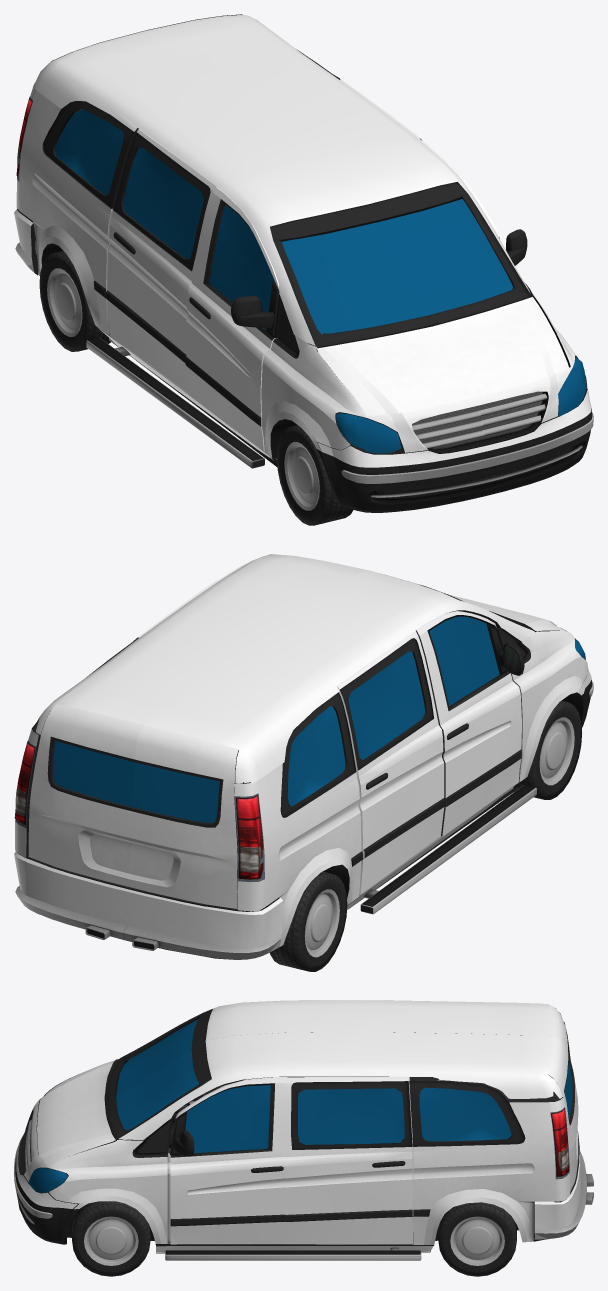
Rendered from Car4.fbx.
3 views of the same model, one above another, from view 1: azimuth 30°, elevation 25°; view 2: azimuth 150°, elevation 25°; view 3: azimuth 270°, elevation 25° (orthographic). The views are drawn at different scales.
Visible parts, largest first — view 1: DC3_Van_1_Roof, DC3_Van_1_Body, DC3_Van_1_Glass_F, DC3_Van_1_Hood, DC3_Van_1_Bumper_F_1, DC3_Van_1_Door_BL_1, Door, DC3_Van_1_Glass_BL_1, DC3_Van_1_Sidepanel_R_3, Side_Glass_, DC3_Van_1_Glass_RL_1, Tire_1 (+7 smaller); view 2: DC3_Van_1_Roof, DC3_Van_1_Trunk, DC3_Van_1_Body, DC3_Van_1_Bumper_B_1, DC3_Van_1_Door_BL_1, Door, DC3_Van_1_Glass_B, DC3_Van_1_Glass_BL_1, Side_Glass_, DC3_Van_1_Sidepanel_R_3, DC3_Van_1_Glass_RL_1, Tire (+6 smaller); view 3: DC3_Van_1_Roof, DC3_Van_1_Body, DC3_Van_1_Door_BL, Door__1_, DC3_Van_1_Glass_BL, DC3_Van_1_Hood, DC3_Van_1_Glass_F, Side_Glass__1, DC3_Van_1_Sidepanel_L_3, DC3_Van_1_Glass_RL, Tire_3, Tire_2 (+8 smaller).
Part boxes in pixels (bbox=[...]): DC3_Van_1_Roof: bbox=[33, 14, 530, 347]; DC3_Van_1_Body: bbox=[16, 50, 587, 512]; DC3_Van_1_Glass_F: bbox=[281, 199, 512, 334]; DC3_Van_1_Hood: bbox=[316, 297, 568, 415]; DC3_Van_1_Bumper_F_1: bbox=[318, 390, 593, 512]; DC3_Van_1_Door_BL_1: bbox=[106, 129, 216, 392]; Door: bbox=[185, 187, 281, 451]; DC3_Van_1_Glass_BL_1: bbox=[123, 147, 203, 259]; DC3_Van_1_Sidepanel_R_3: bbox=[86, 327, 276, 468]; Side_Glass_: bbox=[209, 205, 273, 329]; DC3_Van_1_Glass_RL_1: bbox=[55, 109, 123, 195]; Tire_1: bbox=[277, 425, 353, 525]; DC3_Van_1_Roof: bbox=[36, 554, 532, 784]; DC3_Van_1_Trunk: bbox=[28, 704, 238, 908]; DC3_Van_1_Body: bbox=[15, 611, 587, 959]; DC3_Van_1_Bumper_B_1: bbox=[14, 851, 282, 959]; DC3_Van_1_Door_BL_1: bbox=[337, 630, 444, 894]; Door: bbox=[415, 611, 521, 836]; DC3_Van_1_Glass_B: bbox=[53, 740, 219, 823]; DC3_Van_1_Glass_BL_1: bbox=[348, 651, 425, 759]; Side_Glass_: bbox=[429, 616, 499, 705]; DC3_Van_1_Sidepanel_R_3: bbox=[347, 785, 536, 914]; DC3_Van_1_Glass_RL_1: bbox=[288, 706, 345, 806]; Tire: bbox=[270, 871, 347, 971]; DC3_Van_1_Roof: bbox=[118, 1000, 562, 1139]; DC3_Van_1_Body: bbox=[18, 1022, 579, 1251]; DC3_Van_1_Door_BL: bbox=[285, 1077, 413, 1244]; Door__1_: bbox=[170, 1077, 286, 1244]; DC3_Van_1_Glass_BL: bbox=[298, 1088, 404, 1144]; DC3_Van_1_Hood: bbox=[37, 1059, 117, 1165]; DC3_Van_1_Glass_F: bbox=[116, 1019, 199, 1130]; Side_Glass__1: bbox=[185, 1085, 270, 1153]; DC3_Van_1_Sidepanel_L_3: bbox=[156, 1245, 433, 1260]; DC3_Van_1_Glass_RL: bbox=[419, 1087, 510, 1141]; Tire_3: bbox=[72, 1201, 150, 1276]; Tire_2: bbox=[438, 1202, 516, 1276].
Bounding box in the file's own units: 316 × 260 × 695.
